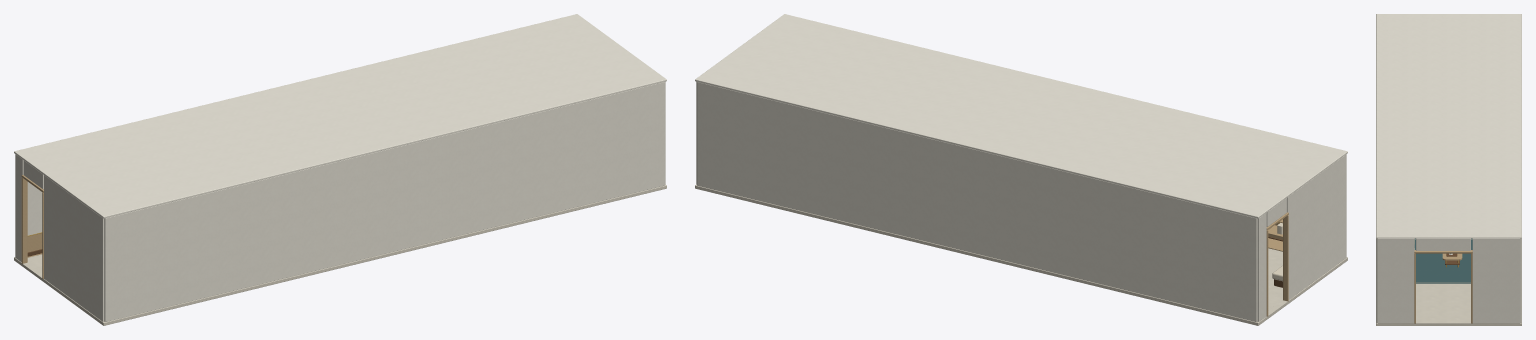
Rendered from room.glb.
3 renders of one model, left to right at view 1: azimuth 30°, elevation 25°; view 2: azimuth 150°, elevation 25°; view 3: azimuth 270°, elevation 25°, orthographic. The views are drawn at different scales.
Visible parts, largest first — view 1: Interior.LoungeLongWall.001, Interior.LoungeCeiling, Interior.WestShell.Lounge_plaster, Interior.LoungeStoneFloor, Interior.WestShell.Lounge_oak, Interior.LoungeLongWall; view 2: Interior.LoungeLongWall, Interior.LoungeCeiling, Interior.WestShell.Lounge_plaster, Interior.LoungeStoneFloor, Interior.WestShell.Lounge_oak; view 3: Interior.LoungeCeiling, Interior.EastShell.Lounge_plaster, Interior.LoungeStoneFloor, Interior.WovenRug.001, Interior.EastShell.Lounge_oak, Interior.LoungeLongWall, Interior.LoungeLongWall.001, Interior.PortalThreshold, Interior.TeaTableTop.001.
Part boxes in pixels (x1,y1,x2,y2): Interior.LoungeLongWall.001: (104, 82, 664, 321); Interior.LoungeCeiling: (14, 14, 666, 218); Interior.WestShell.Lounge_plaster: (15, 154, 104, 321); Interior.LoungeStoneFloor: (14, 184, 666, 325); Interior.WestShell.Lounge_oak: (21, 175, 43, 278); Interior.LoungeLongWall: (27, 182, 42, 235); Interior.LoungeLongWall: (697, 82, 1257, 321); Interior.LoungeCeiling: (695, 14, 1347, 218); Interior.WestShell.Lounge_plaster: (1257, 154, 1346, 321); Interior.LoungeStoneFloor: (695, 184, 1347, 325); Interior.WestShell.Lounge_oak: (1266, 212, 1288, 316); Interior.LoungeCeiling: (1376, 14, 1521, 238); Interior.EastShell.Lounge_plaster: (1377, 238, 1520, 323); Interior.LoungeStoneFloor: (1376, 239, 1521, 325); Interior.WovenRug.001: (1414, 238, 1472, 283); Interior.EastShell.Lounge_oak: (1414, 250, 1472, 323); Interior.LoungeLongWall: (1520, 238, 1521, 322); Interior.LoungeLongWall.001: (1376, 238, 1377, 322); Interior.PortalThreshold: (1416, 321, 1470, 323); Interior.TeaTableTop.001: (1442, 253, 1462, 260).
Size of the model in its own units: 21.6 by 3.99 by 5.94.
26 materials, 11 textured.
